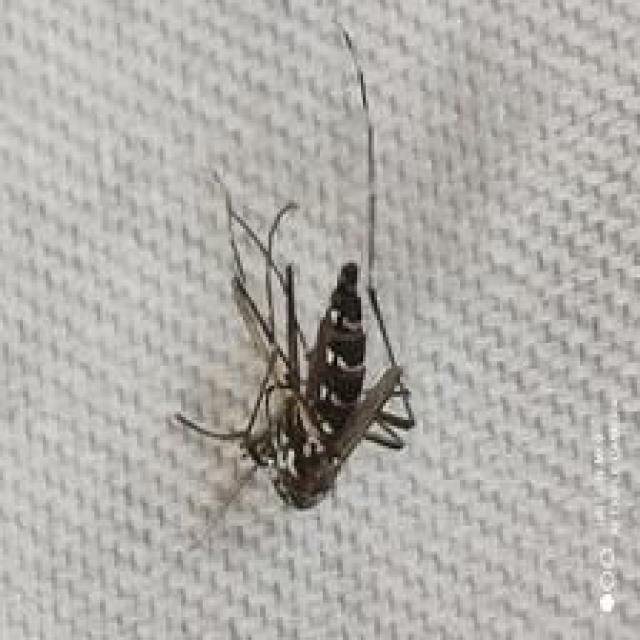Aedes albopictus: (172, 21, 417, 516)
